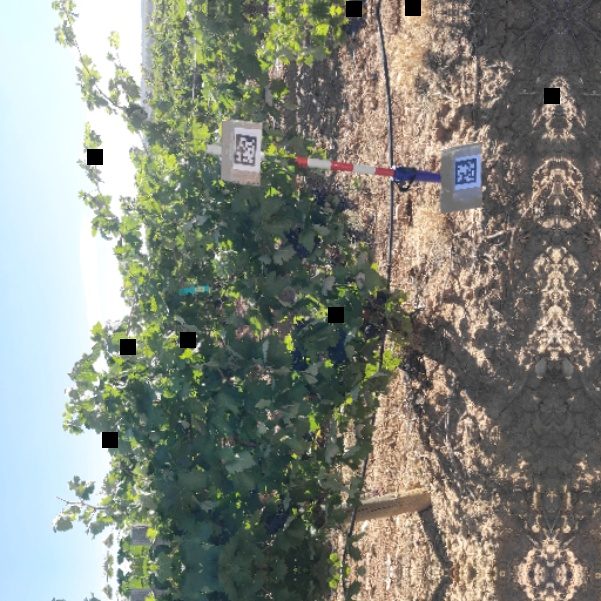QR: (234, 133, 257, 168), (455, 158, 478, 186)
